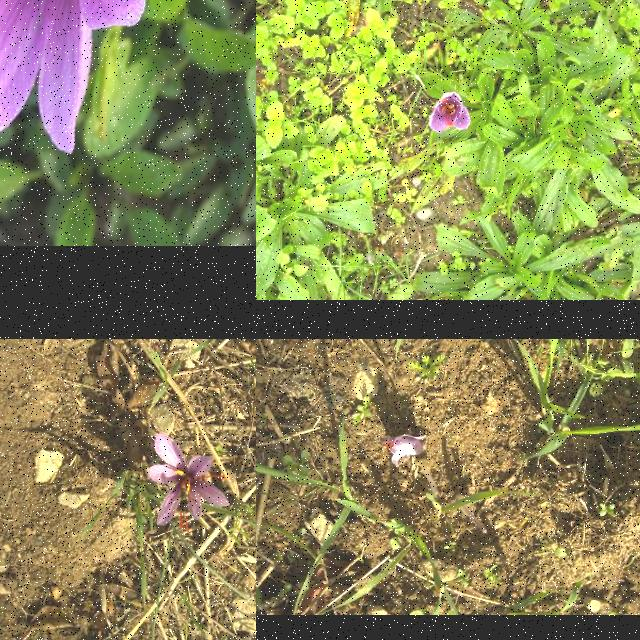flower: (0, 0, 157, 155), (148, 432, 230, 532), (428, 94, 472, 134), (386, 434, 426, 468)
